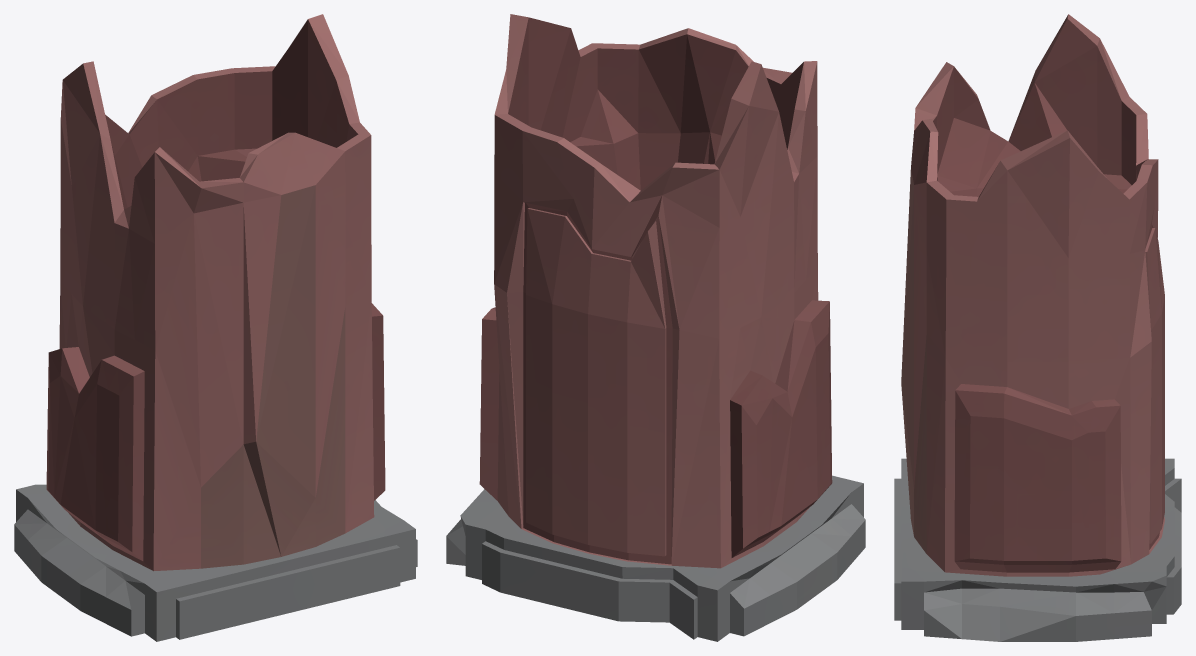
Rendered from gas_pump_C_destroyed.obj.
3 renders of one model, left to right at view 1: azimuth 30°, elevation 25°; view 2: azimuth 150°, elevation 25°; view 3: azimuth 270°, elevation 25°, orthographic. The views are drawn at different scales.
Parts seen in each view (by area): view 1: gas_pump_C_destroyed_body_Mesh; view 2: gas_pump_C_destroyed_body_Mesh; view 3: gas_pump_C_destroyed_body_Mesh.
Part boxes in pixels (x1,y1,x2,y2): gas_pump_C_destroyed_body_Mesh: (14, 14, 417, 641); gas_pump_C_destroyed_body_Mesh: (446, 14, 865, 641); gas_pump_C_destroyed_body_Mesh: (894, 14, 1181, 641).
Bounding box in the file's own units: 0.9162 × 1.45 × 0.7562.
